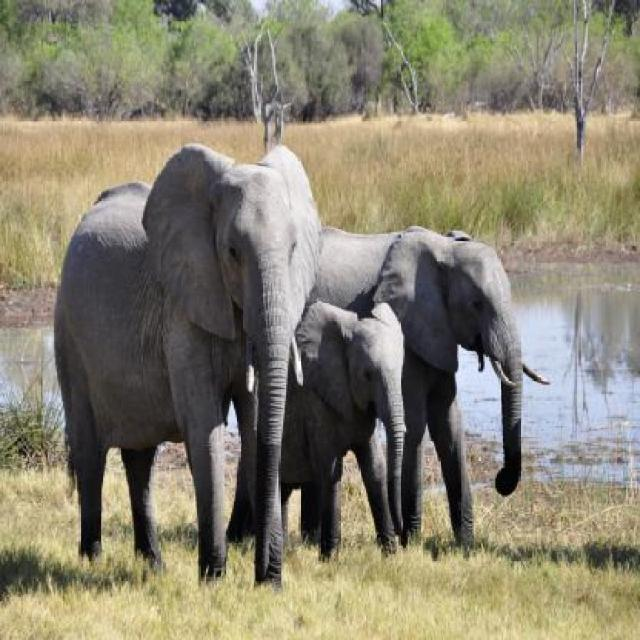Elephant: (51, 138, 322, 594), (314, 209, 551, 543), (237, 295, 415, 570)
